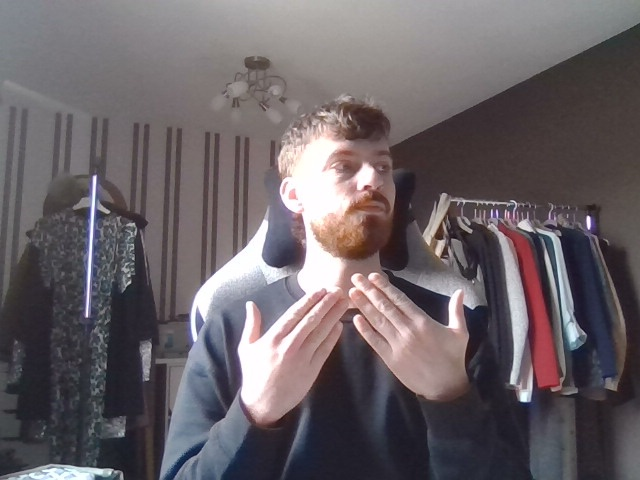Thanks: (231, 266, 489, 400)
